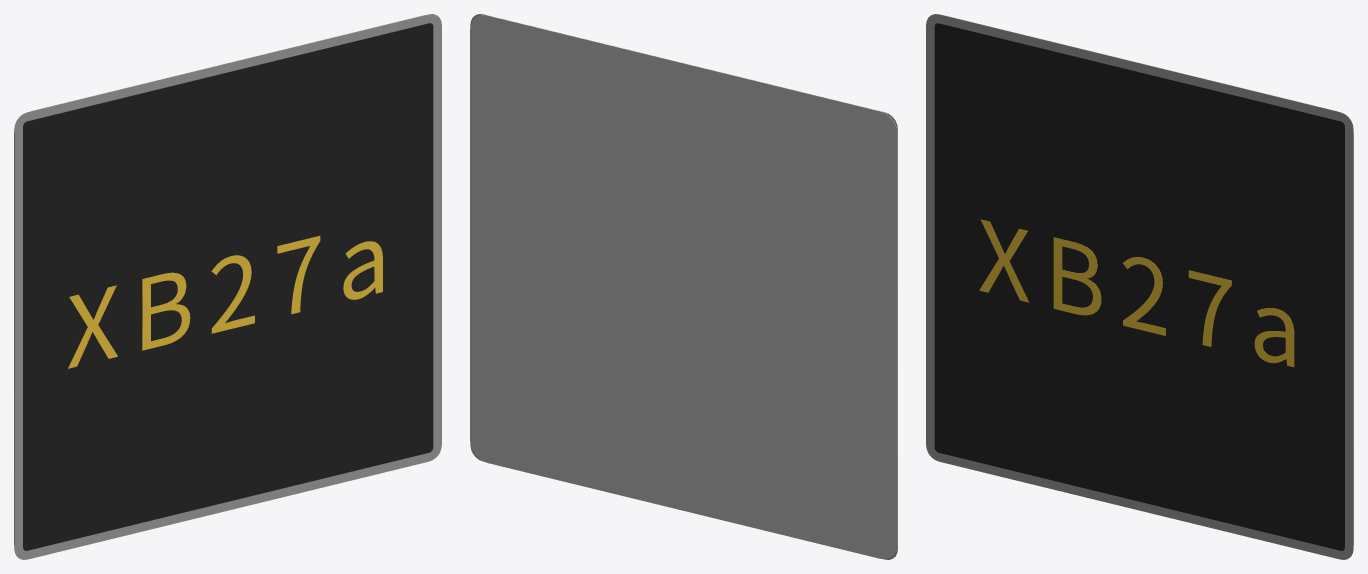
3 renders of one model, left to right at view 1: azimuth 30°, elevation 25°; view 2: azimuth 150°, elevation 25°; view 3: azimuth 330°, elevation 25°, orthographic.
Parts seen in each view (by area): view 1: XB27a_fond01, XB27a_cadre00, XB27a_txt02, XB27a_dos; view 2: XB27a_dos, XB27a_cadre00; view 3: XB27a_fond01, XB27a_cadre00, XB27a_txt02, XB27a_dos.
Part boxes in pixels (box(x1,y1,x2,y2)): XB27a_fond01: box(23, 23, 433, 550); XB27a_cadre00: box(14, 14, 441, 559); XB27a_txt02: box(68, 236, 382, 368); XB27a_dos: box(14, 15, 424, 544); XB27a_dos: box(470, 15, 897, 559); XB27a_cadre00: box(470, 14, 897, 559); XB27a_fond01: box(934, 23, 1344, 550); XB27a_cadre00: box(926, 14, 1353, 559); XB27a_txt02: box(979, 219, 1294, 367); XB27a_dos: box(943, 15, 1353, 544).
Bounding box in the file's own units: 1 × 1 × 0.0025.
